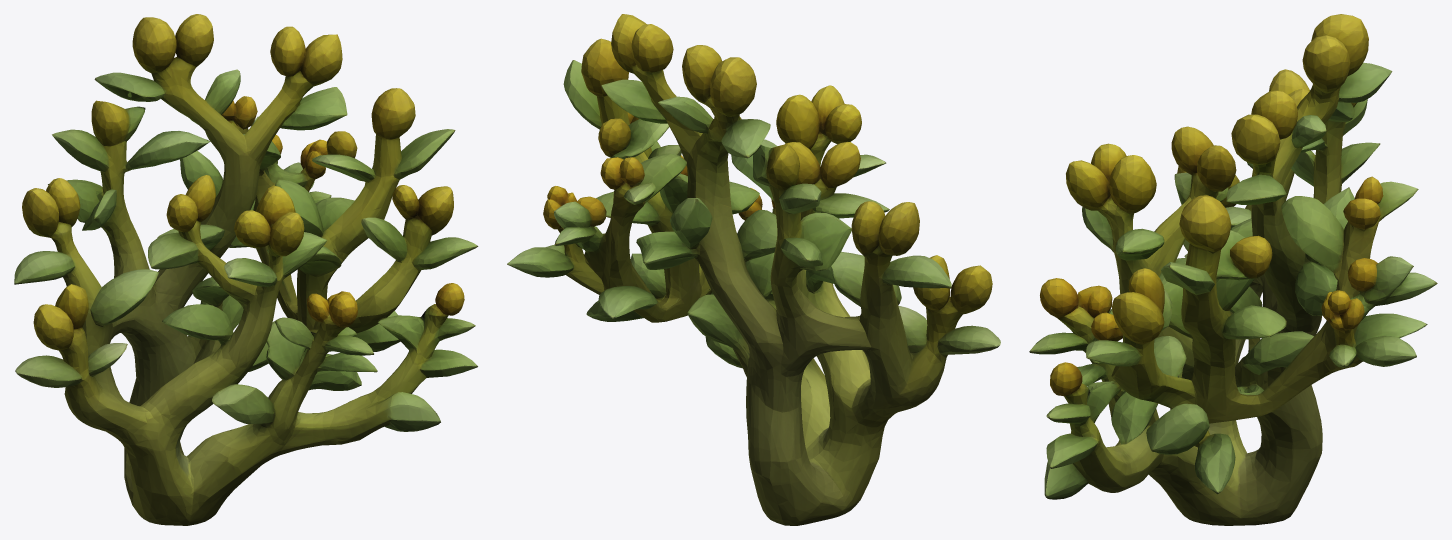
3 views of the same model, side by side, from view 1: azimuth 30°, elevation 25°; view 2: azimuth 150°, elevation 25°; view 3: azimuth 270°, elevation 25° (orthographic). The views are drawn at different scales.
Visible parts, largest first — view 1: world; view 2: world; view 3: world.
Part boxes in pixels (bbox=[...]): world: bbox=[14, 14, 478, 525]; world: bbox=[507, 14, 1000, 525]; world: bbox=[1029, 14, 1437, 525].
Bounding box in the file's own units: 0.9822 × 1 × 0.724.
Materials: 1 (1 with a texture image).
